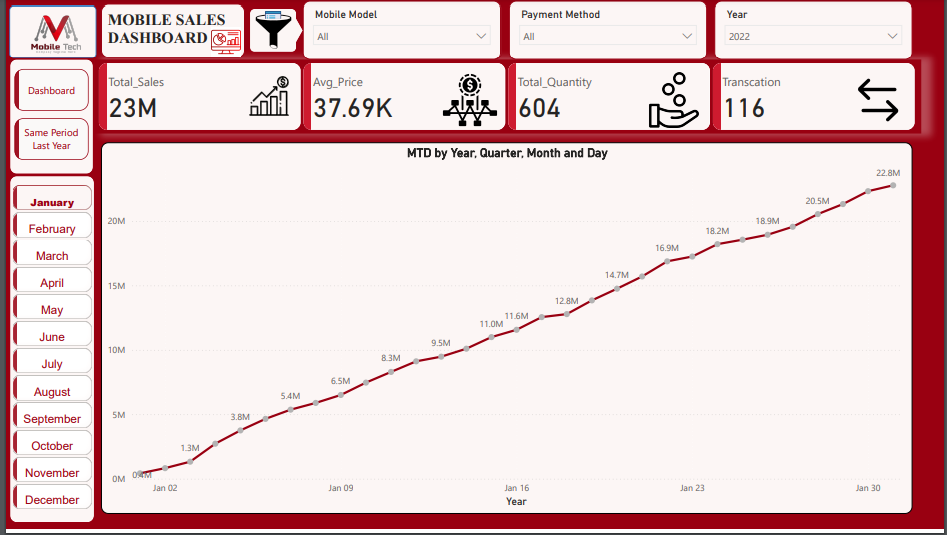

The page's visual inventory and layout, read from the dashboard file:
{"tool":"powerbi","page":{"name":"MTD Dashboard","canvas":[1280,720],"ordinal":1},"visuals":[{"type":"shape","box":[5.7,5.7,118.6,71.4],"z":0},{"type":"shape","box":[7.1,80,112.9,155.7],"z":1000},{"type":"cardVisual","fields":{"Data":["Sales_Data.Total_Sales","Sales_Data.Avg_Price","Sales_Data.Total_Quantity","Sales_Data.Transcation"]},"box":[122.9,80,1125.7,101.4],"z":2000},{"type":"image","box":[0,0,135.7,91.4],"z":3000},{"type":"slicer","fields":{"Values":["Sales_Data.Mobile Model"]},"box":[407.1,0,270,80],"z":4000},{"type":"slicer","fields":{"Values":["Sales_Data.Payment Method"]},"box":[687.1,0,270,80],"z":5000},{"type":"slicer","fields":{"Values":["Custom_Calender.Date.Variation.Date Hierarchy.Year"]},"box":[967.1,0,270,80],"z":6000},{"type":"slicer","fields":{"Values":["Sales_Data.Mobile Model"]},"box":[405.7,0,270,80],"z":7000},{"type":"shape","box":[334.3,10,62.9,58.6],"z":8000},{"type":"shape","box":[372.6,10,32.6,58.4],"z":9000},{"type":"image","box":[327.4,5.8,78.4,65.8],"z":10000},{"type":"textbox","box":[131.4,4.3,195.7,72.9],"z":11000},{"type":"image","box":[272.9,30,55.7,50],"z":12000},{"type":"lineChart","fields":{"Category":["Custom_Calender.Date.Variation.Date Hierarchy.Year","Custom_Calender.Date.Variation.Date Hierarchy.Quarter","Custom_Calender.Date.Variation.Date Hierarchy.Month","Custom_Calender.Date.Variation.Date Hierarchy.Day"],"Y":["Sales_Data.MTD"]},"box":[131.4,192.9,1105.7,505.7],"z":13000},{"type":"shape","box":[7.1,238.6,114.3,471.4],"z":14000},{"type":"advancedSlicerVisual","fields":{"Values":["Custom_Calender.Date.Variation.Date Hierarchy.Month"]},"box":[5.7,247.1,117.1,451.4],"z":15000},{"type":"pageNavigator","box":[12.9,92.9,101.4,125.7],"z":15001}]}

Visuals, with their boxes in screenshot pixels (x1, y1, x2, y2), scaled from the page's 1280x720 canvas onto the 947x535 screenshot:
shape: (left=4, top=4, right=92, bottom=57)
shape: (left=5, top=59, right=89, bottom=175)
cardVisual - Sales_Data.Total_Sales x Sales_Data.Avg_Price: (left=91, top=59, right=924, bottom=135)
image: (left=0, top=0, right=100, bottom=68)
slicer - Sales_Data.Mobile Model: (left=301, top=0, right=501, bottom=59)
slicer - Sales_Data.Payment Method: (left=508, top=0, right=708, bottom=59)
slicer - Custom_Calender.Date.Variation.Date Hierarchy.Year: (left=716, top=0, right=915, bottom=59)
slicer - Sales_Data.Mobile Model: (left=300, top=0, right=500, bottom=59)
shape: (left=247, top=7, right=294, bottom=51)
shape: (left=276, top=7, right=300, bottom=51)
image: (left=242, top=4, right=300, bottom=53)
textbox: (left=97, top=3, right=242, bottom=57)
image: (left=202, top=22, right=243, bottom=59)
lineChart - Custom_Calender.Date.Variation.Date Hierarchy.Year x Custom_Calender.Date.Variation.Date Hierarchy.Quarter: (left=97, top=143, right=915, bottom=519)
shape: (left=5, top=177, right=90, bottom=528)
advancedSlicerVisual - Custom_Calender.Date.Variation.Date Hierarchy.Month: (left=4, top=184, right=91, bottom=519)
pageNavigator: (left=10, top=69, right=85, bottom=162)
